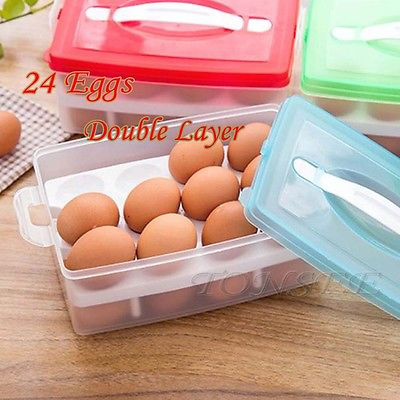egg: (56, 124, 321, 270)
